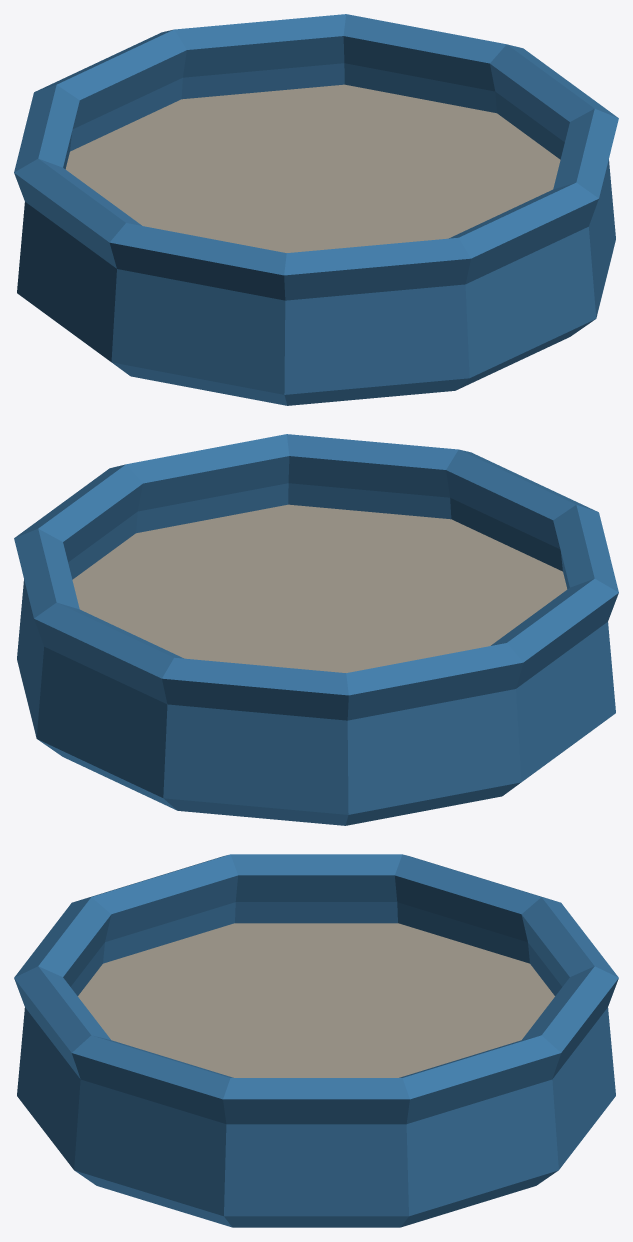
Rendered from props_pool-inflatable.fbx.
3 views of the same model, one above another, from view 1: azimuth 30°, elevation 25°; view 2: azimuth 150°, elevation 25°; view 3: azimuth 270°, elevation 25° (orthographic). The views are drawn at different scales.
Parts seen in each view (by area): view 1: props_pool_inflatable; view 2: props_pool_inflatable; view 3: props_pool_inflatable.
Part boxes in pixels (x1,y1,x2,y2): props_pool_inflatable: (14,14,618,405); props_pool_inflatable: (14,434,618,825); props_pool_inflatable: (14,854,618,1227).
Size of the model in its own units: 190 by 55.64 by 200.
